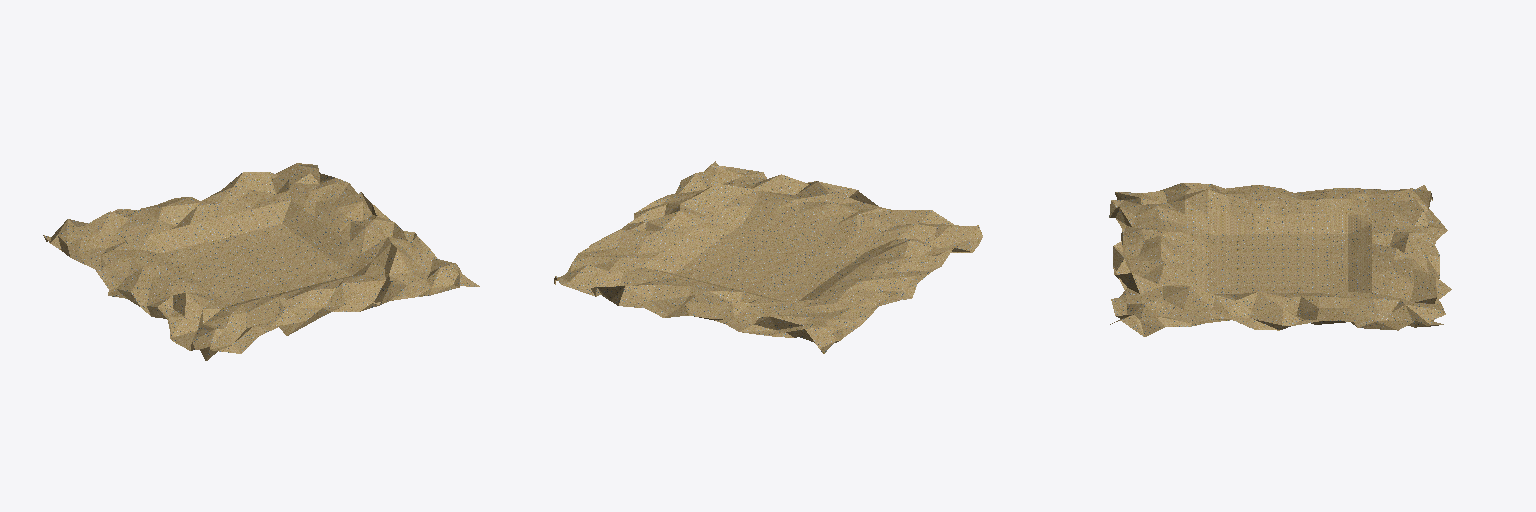
3 views of the same model, side by side, from view 1: azimuth 30°, elevation 25°; view 2: azimuth 150°, elevation 25°; view 3: azimuth 270°, elevation 25° (orthographic).
Visible parts, largest first — view 1: Plane; view 2: Plane; view 3: Plane.
Boxes of the visible parts, <box> form: Plane: <box>43,163,479,360</box>; Plane: <box>554,161,982,353</box>; Plane: <box>1109,183,1451,336</box>.
Size of the model in its own units: 90.25 by 9.49 by 92.03.
1 materials, 1 textured.